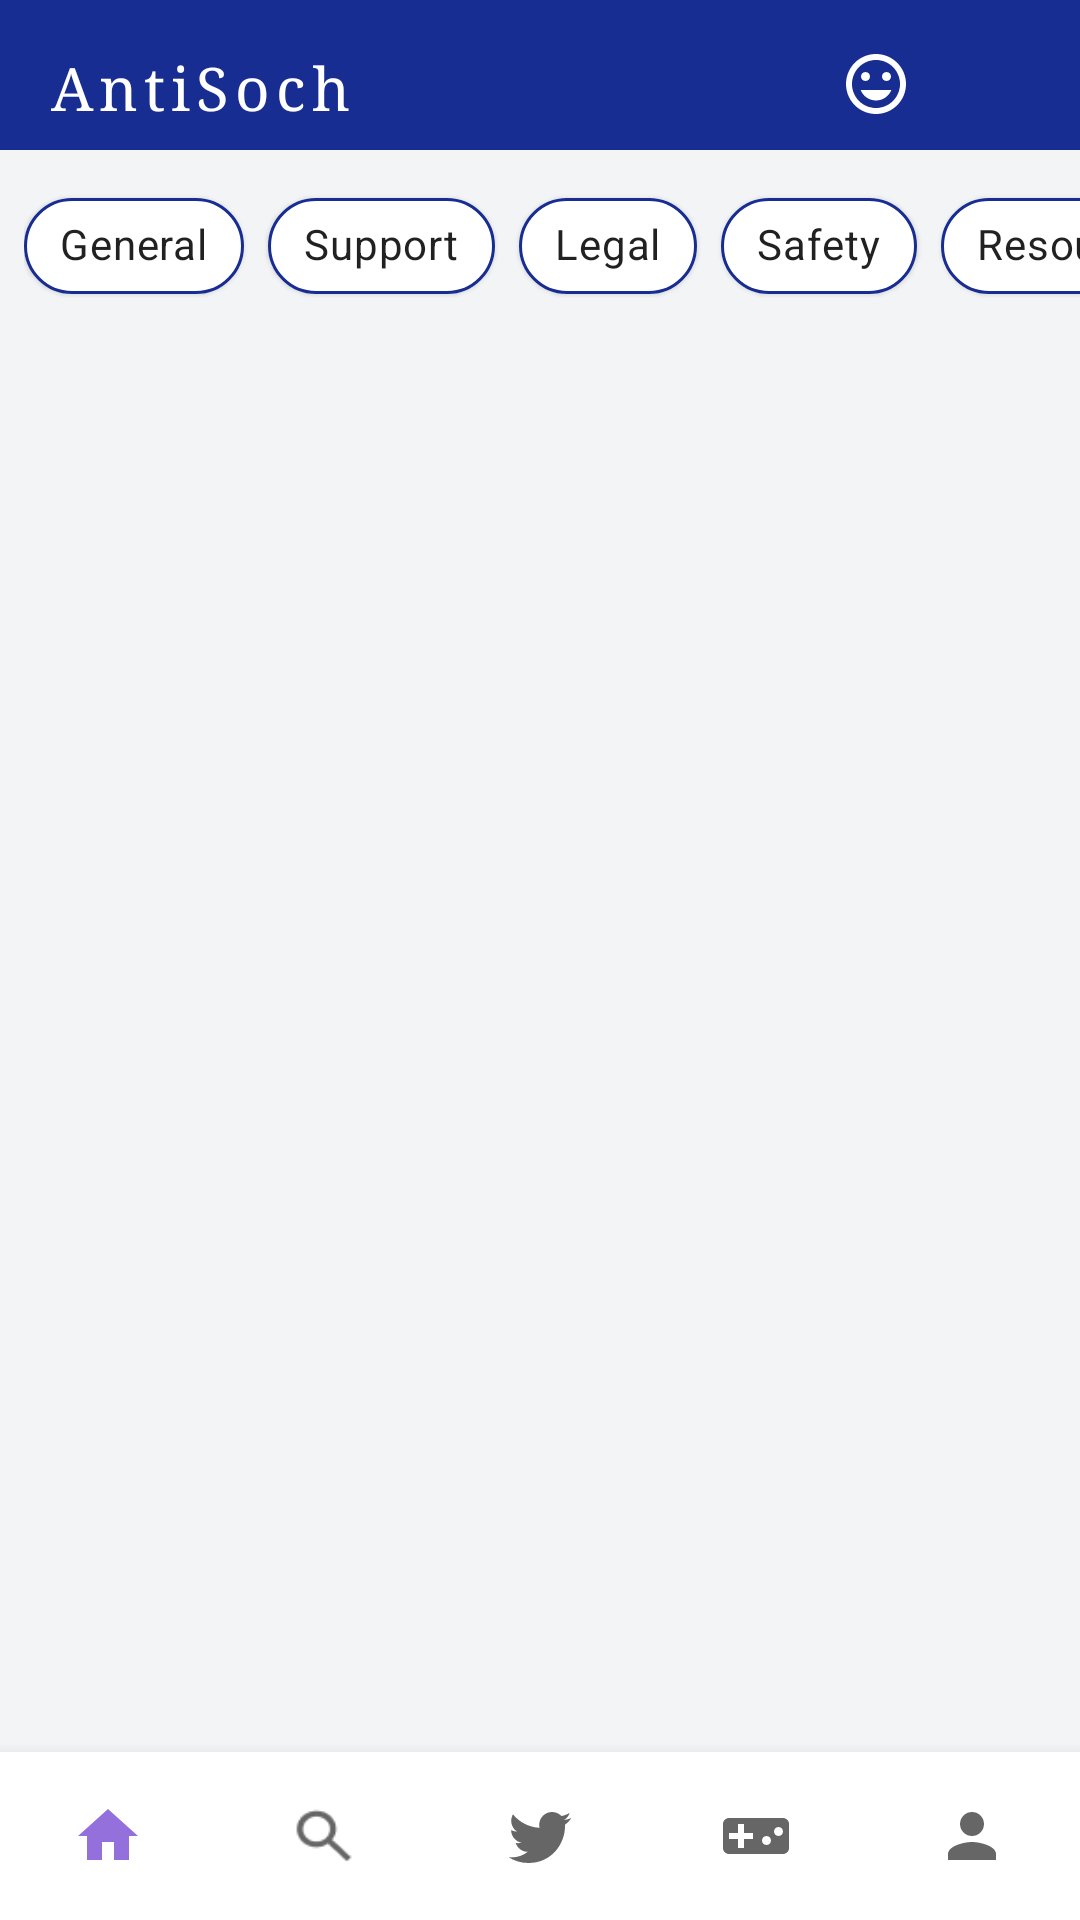

Named icons in this screenshot (1080 x 1920) and their centers, (x,y):
Smile: (876,84)
